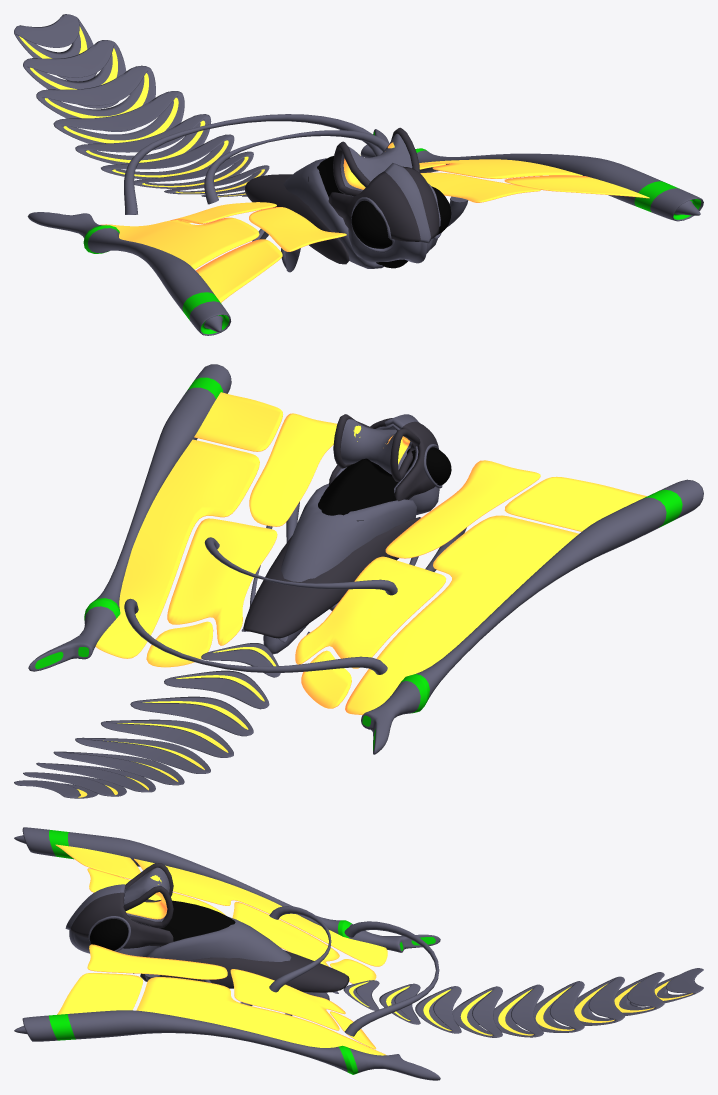
The model's file is SquirrelTestModel1D.fbx.
The picture shows the model from 3 angles, top to bottom: view 1: azimuth 30°, elevation 25°; view 2: azimuth 150°, elevation 25°; view 3: azimuth 270°, elevation 25°; orthographic projection. The views are drawn at different scales.
Visible parts, largest first — view 1: Cylinder.036; view 2: Cylinder.036; view 3: Cylinder.036.
Boxes of the visible parts, x1,y1,x2,y2 form: Cylinder.036: [14, 14, 703, 335]; Cylinder.036: [14, 364, 703, 798]; Cylinder.036: [14, 827, 703, 1080].
Bounding box in the file's own units: 440 × 148 × 635.
